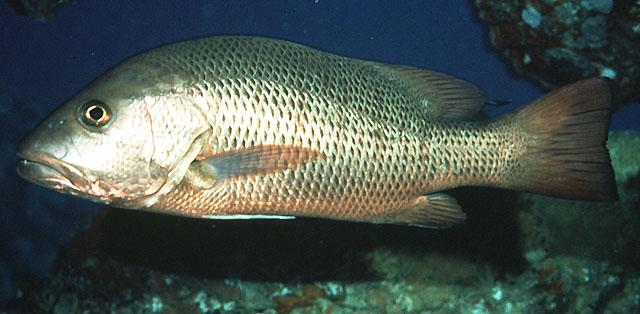Mulut: (0, 126, 90, 216)
Sirip Anal: (380, 184, 480, 244)
Sirip Dada: (182, 125, 344, 205)
Sirip Ekor: (493, 70, 629, 212)
Sirip Perut: (199, 204, 303, 230)
Sirip Punggung: (310, 43, 504, 141)
